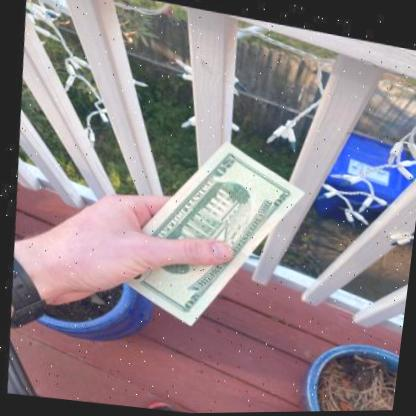dollar_back: (99, 137, 303, 324)
